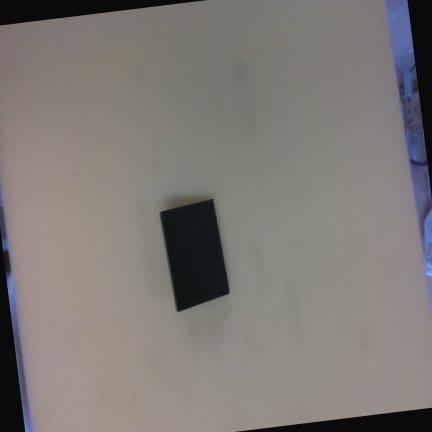tile: (158, 199, 232, 312)
